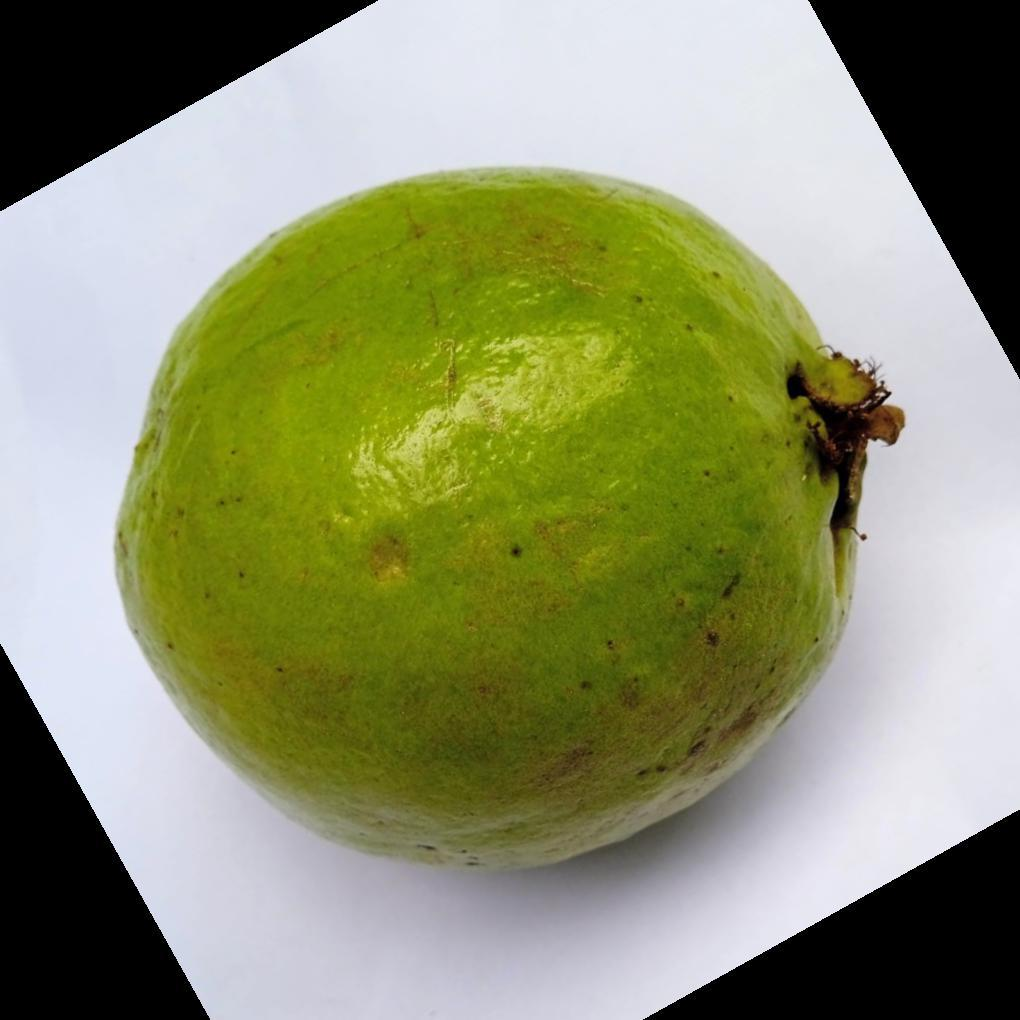FreshGuava: (109, 167, 905, 877)
